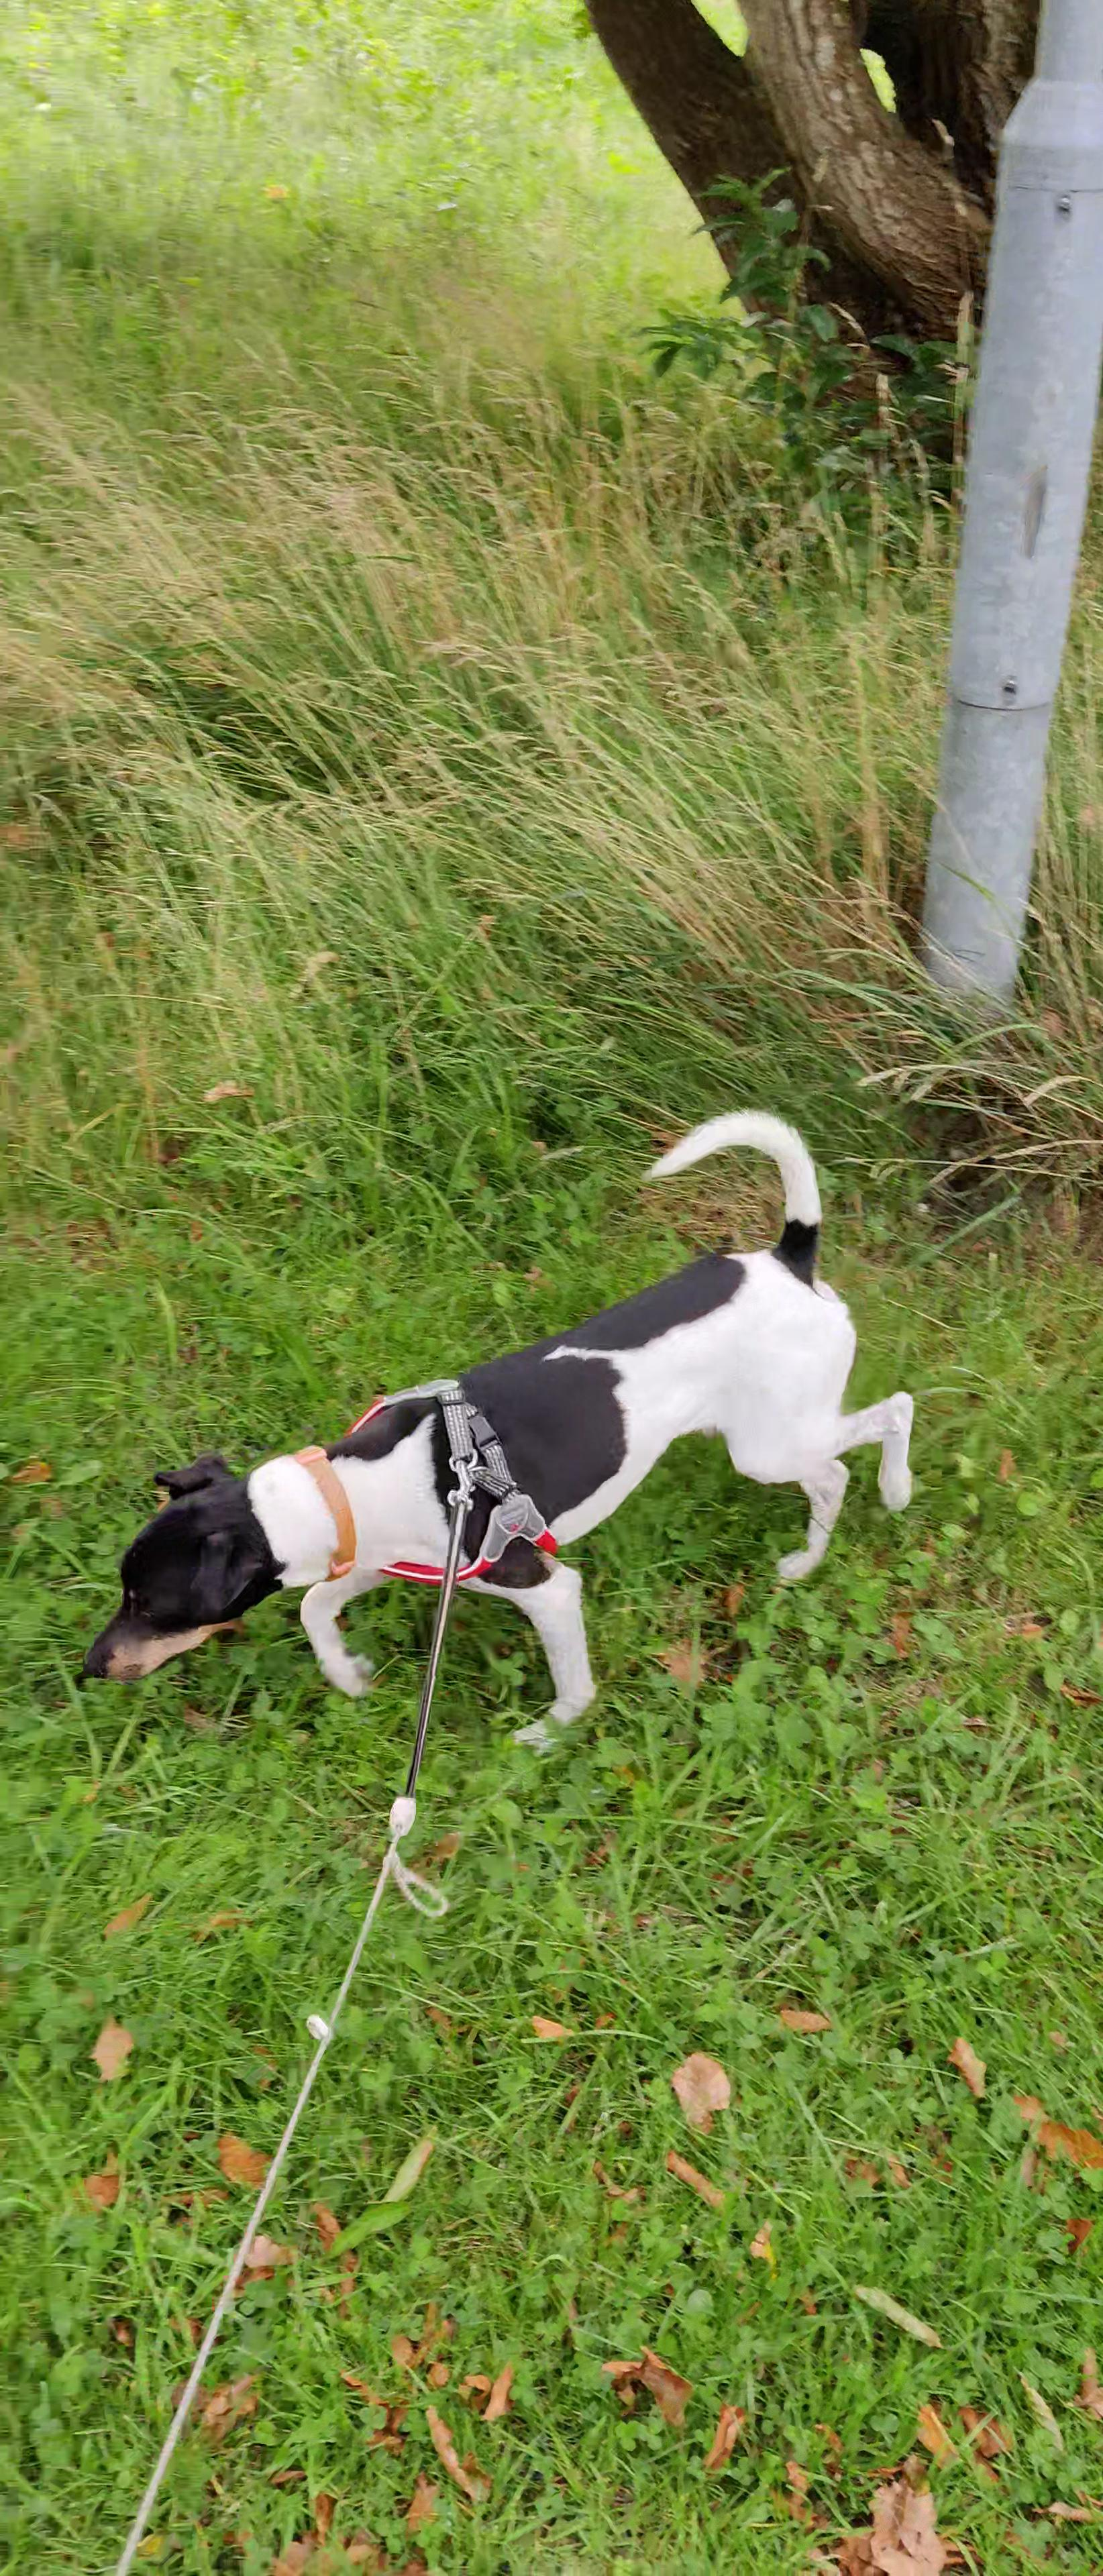Dog: (66, 1091, 930, 1801)
